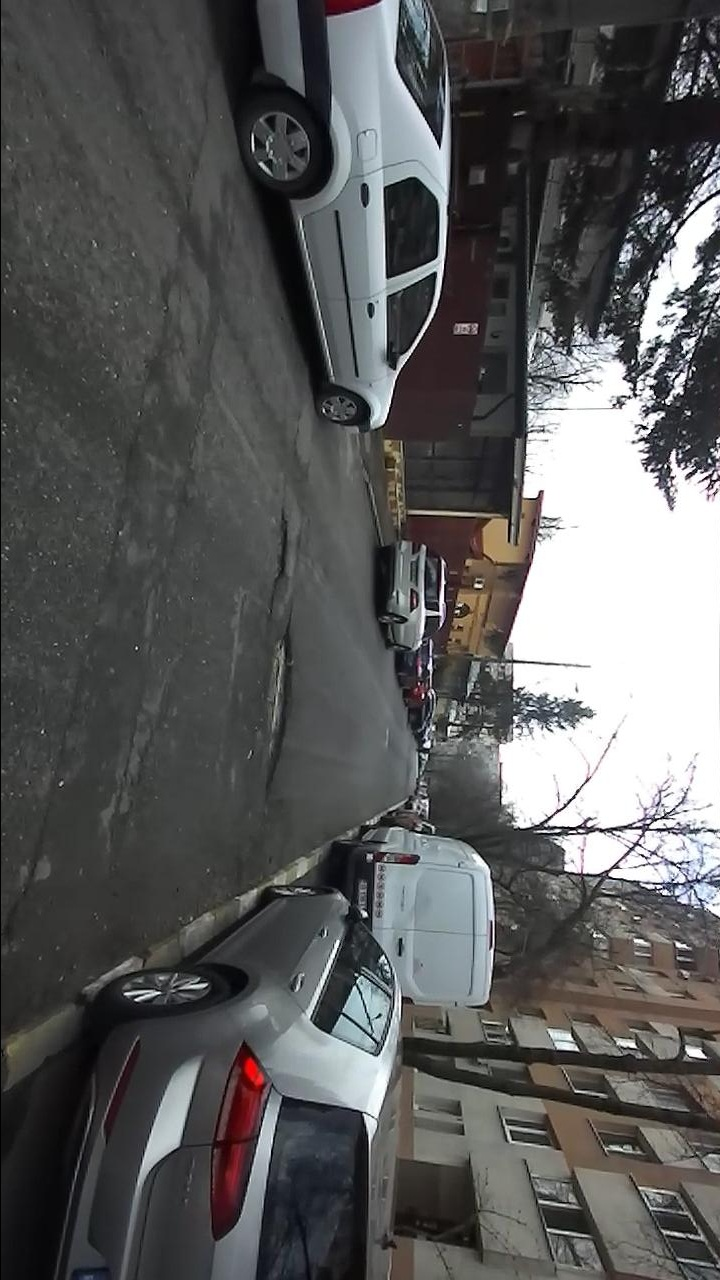pothole: (254, 619, 295, 796), (268, 505, 292, 594)
